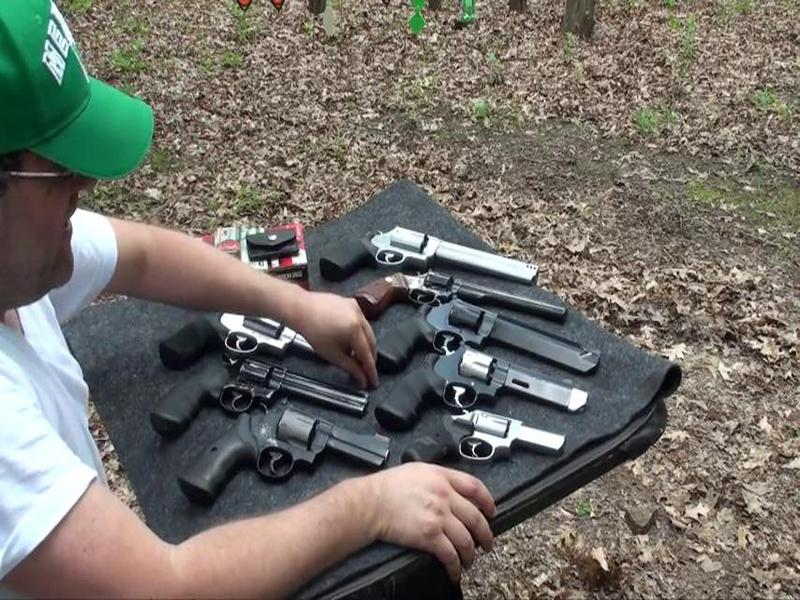Revolver: (350, 291, 601, 390)
